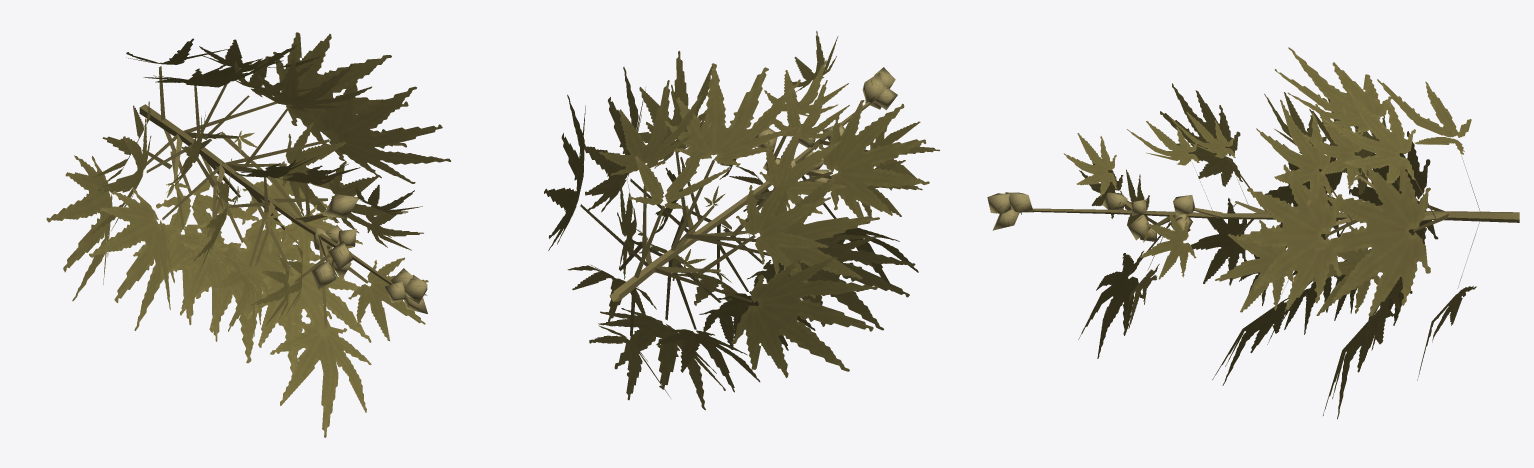
Rendered from p_male_landrace_preflower_c2_cards.obj.
The picture shows the model from 3 angles, left to right: view 1: azimuth 30°, elevation 25°; view 2: azimuth 150°, elevation 25°; view 3: azimuth 270°, elevation 25°; orthographic projection. The views are drawn at different scales.
Size of the model in its own units: 1.61 by 1.42 by 1.82.
Materials: 1 (1 with a texture image).
